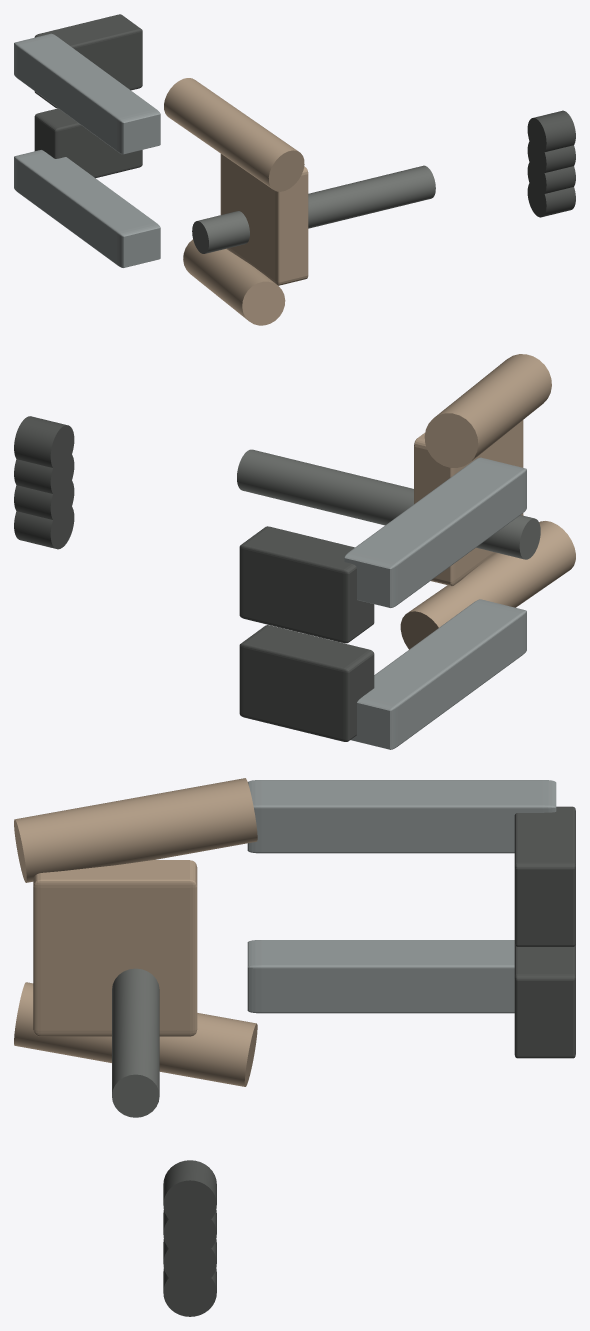
The model's file is d-u09-dominion-exo-infantry-lod2.glb.
The picture shows the model from 3 angles, top to bottom: view 1: azimuth 30°, elevation 25°; view 2: azimuth 150°, elevation 25°; view 3: azimuth 270°, elevation 25°; orthographic projection. The views are drawn at different scales.
Visible parts, largest first — view 1: exo_servo_leg_1, exo_servo_leg_-1, soldier_0_chest, soldier_0_arm_1, soldier_0_rifle, soldier_0_arm_-1, soldier_0_boot_1, soldier_0_boot_-1, exo_rotary_muzzle_3, exo_rotary_muzzle_0, exo_rotary_muzzle_1, exo_rotary_muzzle_2; view 2: exo_servo_leg_1, exo_servo_leg_-1, soldier_0_boot_-1, soldier_0_boot_1, soldier_0_rifle, soldier_0_arm_1, soldier_0_arm_-1, soldier_0_chest, exo_rotary_muzzle_3, exo_rotary_muzzle_0, exo_rotary_muzzle_2, exo_rotary_muzzle_1; view 3: soldier_0_chest, exo_servo_leg_1, exo_servo_leg_-1, soldier_0_arm_1, soldier_0_boot_1, soldier_0_arm_-1, soldier_0_boot_-1, soldier_0_rifle, exo_rotary_muzzle_3, exo_rotary_muzzle_0, exo_rotary_muzzle_2, exo_rotary_muzzle_1.
Part boxes in pixels (box(x1,y1,x2,y2)): exo_servo_leg_1: box(14, 33, 160, 154); exo_servo_leg_-1: box(14, 150, 160, 267); soldier_0_chest: box(220, 154, 308, 285); soldier_0_arm_1: box(164, 78, 304, 191); soldier_0_rifle: box(192, 165, 435, 253); soldier_0_arm_-1: box(183, 239, 285, 325); soldier_0_boot_1: box(34, 14, 142, 108); soldier_0_boot_-1: box(34, 108, 142, 178); exo_rotary_muzzle_3: box(527, 110, 575, 154); exo_rotary_muzzle_0: box(527, 181, 575, 217); exo_rotary_muzzle_1: box(527, 160, 575, 196); exo_rotary_muzzle_2: box(527, 139, 575, 175); exo_servo_leg_1: box(344, 457, 526, 607); exo_servo_leg_-1: box(351, 599, 526, 749); soldier_0_boot_-1: box(239, 625, 374, 741); soldier_0_boot_1: box(239, 526, 374, 643); soldier_0_rifle: box(237, 449, 540, 559); soldier_0_arm_1: box(424, 354, 551, 467); soldier_0_arm_-1: box(400, 521, 575, 649); soldier_0_chest: box(414, 420, 523, 585); exo_rotary_muzzle_3: box(14, 416, 74, 470); exo_rotary_muzzle_0: box(14, 503, 74, 549); exo_rotary_muzzle_2: box(14, 451, 74, 496); exo_rotary_muzzle_1: box(14, 477, 74, 522); soldier_0_chest: box(33, 860, 197, 1036); exo_servo_leg_1: box(247, 780, 556, 853); exo_servo_leg_-1: box(247, 940, 514, 1013); soldier_0_arm_1: box(14, 778, 257, 882); soldier_0_boot_1: box(514, 806, 575, 946); soldier_0_arm_-1: box(14, 982, 257, 1086); soldier_0_boot_-1: box(514, 943, 575, 1058); soldier_0_rifle: box(112, 968, 159, 1117); exo_rotary_muzzle_3: box(163, 1160, 216, 1228); exo_rotary_muzzle_0: box(163, 1268, 216, 1316); exo_rotary_muzzle_2: box(163, 1209, 216, 1257); exo_rotary_muzzle_1: box(163, 1239, 216, 1287).
Size of what is drawn, in the model's own units: 2.34 by 1.08 by 1.91.
